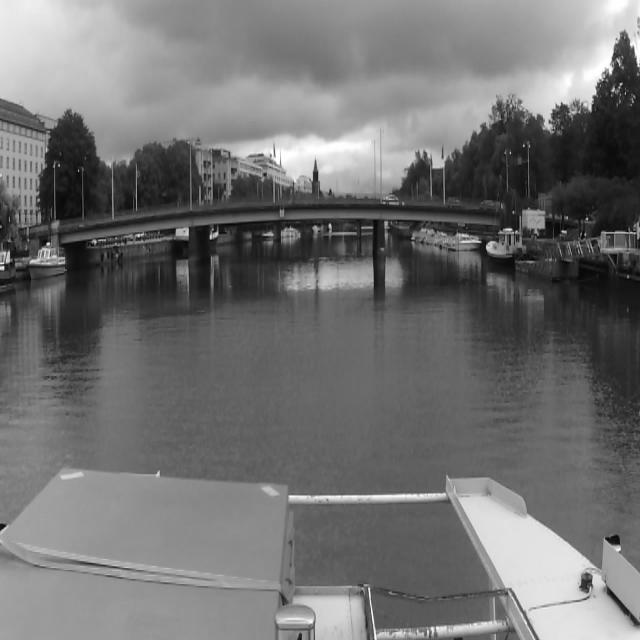ship: (22, 237, 68, 279), (486, 225, 522, 266), (0, 243, 16, 279), (449, 236, 481, 252)
